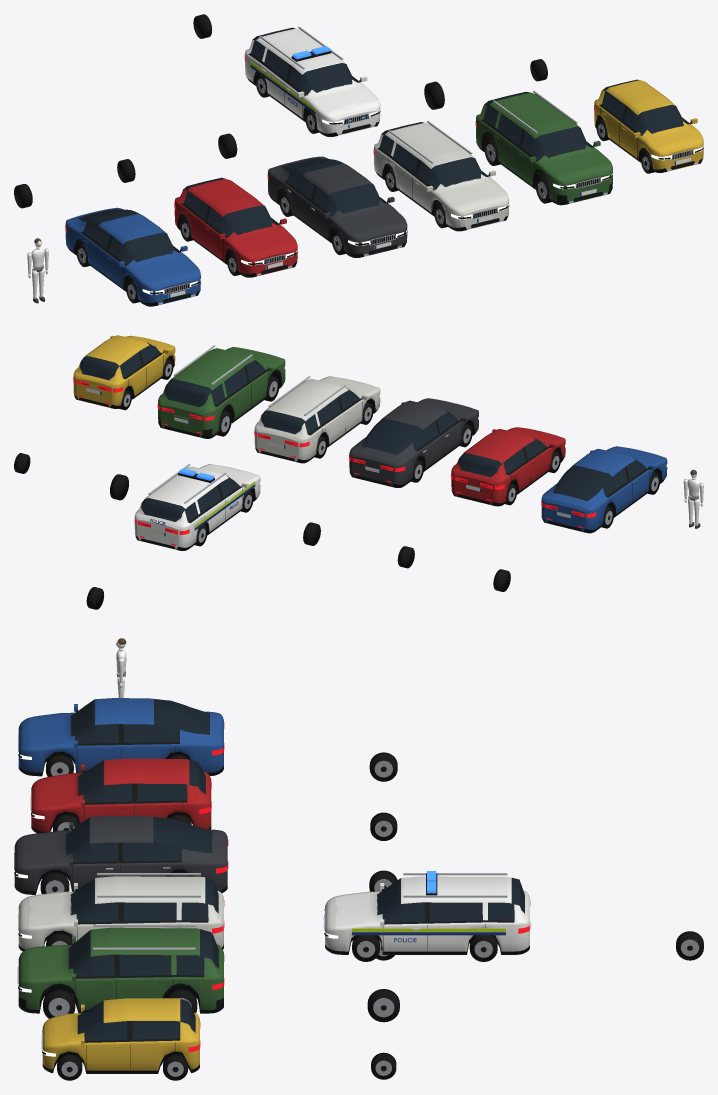
Rendered from vehicles.glb.
The picture shows the model from 3 angles, top to bottom: view 1: azimuth 30°, elevation 25°; view 2: azimuth 150°, elevation 25°; view 3: azimuth 270°, elevation 25°; orthographic projection. The views are drawn at different scales.
Parts seen in each view (by area): view 1: car_suv_hi, car_superb_hi, car_police_hi, car_estate_hi, car_liftback_hi, car_hatch_hi, car_city_hi, car_suv_lo, car_estate_lo, car_police_lo, car_superb_lo, car_hatch_lo (+3 smaller); view 2: car_suv_hi, car_superb_hi, car_estate_hi, car_police_hi, car_liftback_hi, car_hatch_hi, car_city_hi, car_police_lo, car_superb_lo, car_suv_lo, car_liftback_lo, car_estate_lo (+2 smaller); view 3: car_suv_hi, car_police_hi, car_liftback_hi, car_city_hi, car_superb_hi, car_hatch_hi, car_estate_hi, car_suv_lo, car_police_lo, car_liftback_lo, car_superb_lo, car_city_lo (+5 smaller).
Boxes of the visible parts, box(x1,y1,x2,y2) form: car_suv_hi: box(475, 90, 613, 205); car_superb_hi: box(267, 156, 407, 257); car_police_hi: box(244, 26, 380, 136); car_estate_hi: box(373, 120, 509, 231); car_liftback_hi: box(65, 207, 200, 306); car_hatch_hi: box(174, 177, 297, 277); car_city_hi: box(594, 79, 703, 173); car_suv_lo: box(476, 92, 613, 204); car_estate_lo: box(374, 122, 509, 229); car_police_lo: box(245, 28, 380, 136); car_superb_lo: box(268, 157, 407, 257); car_hatch_lo: box(175, 179, 297, 276); car_suv_hi: box(157, 345, 285, 438); car_superb_hi: box(349, 398, 479, 487); car_estate_hi: box(254, 376, 380, 463); car_police_hi: box(134, 463, 260, 550); car_liftback_hi: box(541, 446, 667, 533); car_hatch_hi: box(451, 427, 565, 506); car_city_hi: box(73, 335, 175, 409); car_police_lo: box(136, 464, 260, 550); car_superb_lo: box(349, 399, 479, 487); car_suv_lo: box(158, 347, 285, 438); car_liftback_lo: box(544, 446, 666, 532); car_estate_lo: box(254, 376, 380, 462); car_suv_hi: box(17, 924, 224, 1018); car_police_hi: box(323, 871, 530, 961); car_liftback_hi: box(18, 698, 224, 776); car_city_hi: box(41, 998, 200, 1080); car_superb_hi: box(14, 816, 228, 894); car_hatch_hi: box(30, 758, 211, 833); car_estate_hi: box(18, 873, 224, 951); car_suv_lo: box(18, 927, 224, 1018); car_police_lo: box(324, 876, 530, 961); car_liftback_lo: box(18, 698, 224, 775); car_superb_lo: box(14, 816, 228, 894); car_city_lo: box(42, 998, 200, 1080).
Size of the model in its own units: 20.49 by 2.21 by 15.77.
